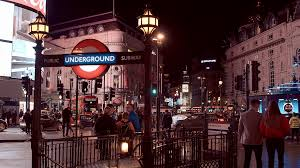London Underground: (62, 38, 115, 81)
